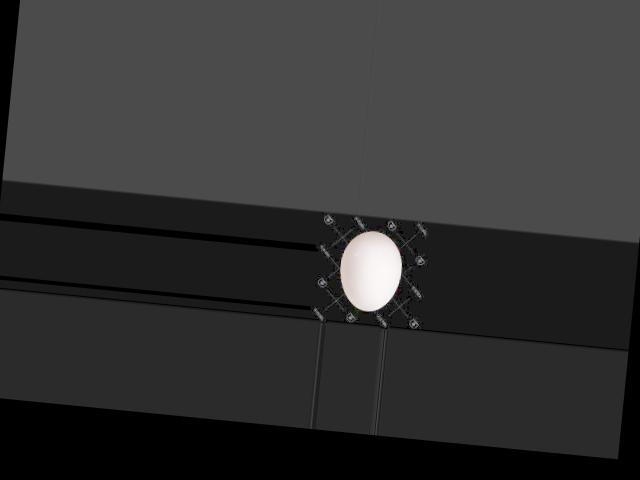egg: (337, 228, 405, 313)
